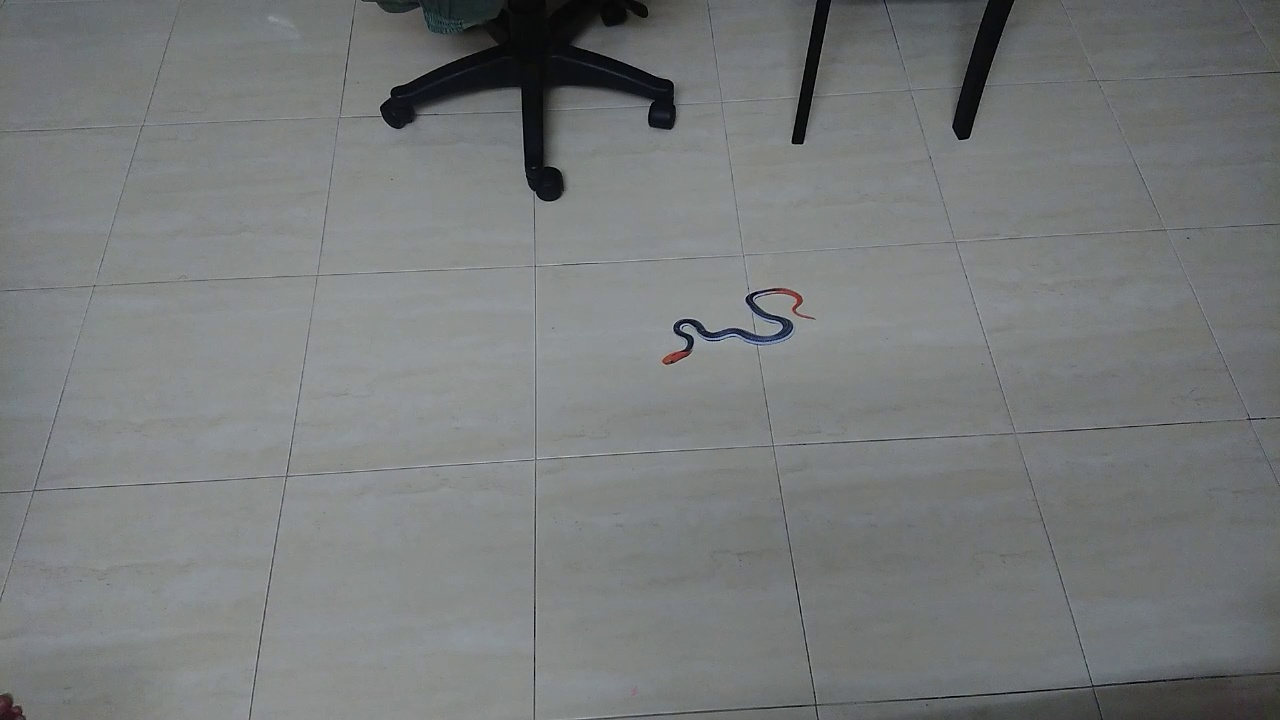snake: (646, 270, 826, 380)
